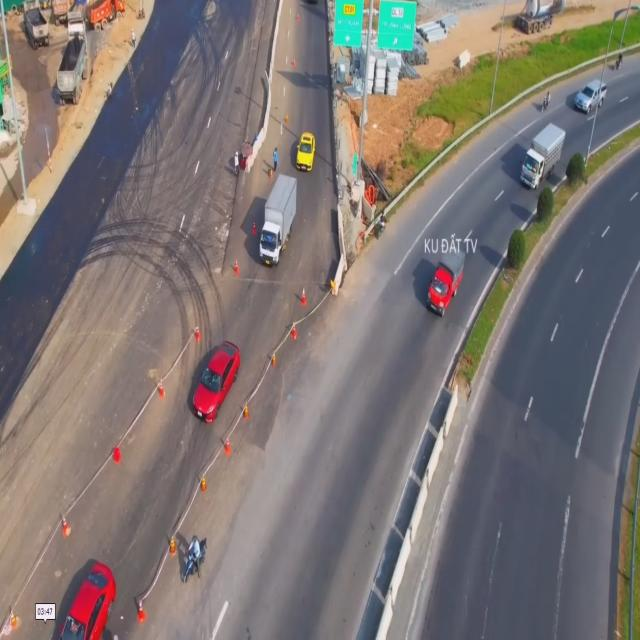car: (57, 562, 117, 640), (193, 339, 242, 424), (574, 80, 605, 116), (296, 130, 316, 174)
motorbike: (181, 535, 207, 584)
truck: (260, 172, 298, 265), (522, 122, 564, 184), (427, 250, 466, 313), (363, 14, 377, 56)
